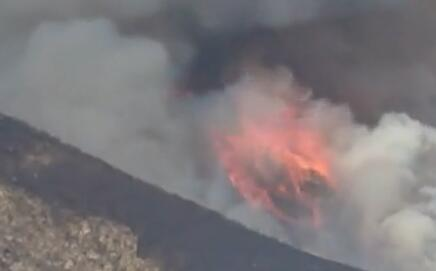fire: (214, 99, 333, 227)
yanwu: (0, 0, 435, 270)
